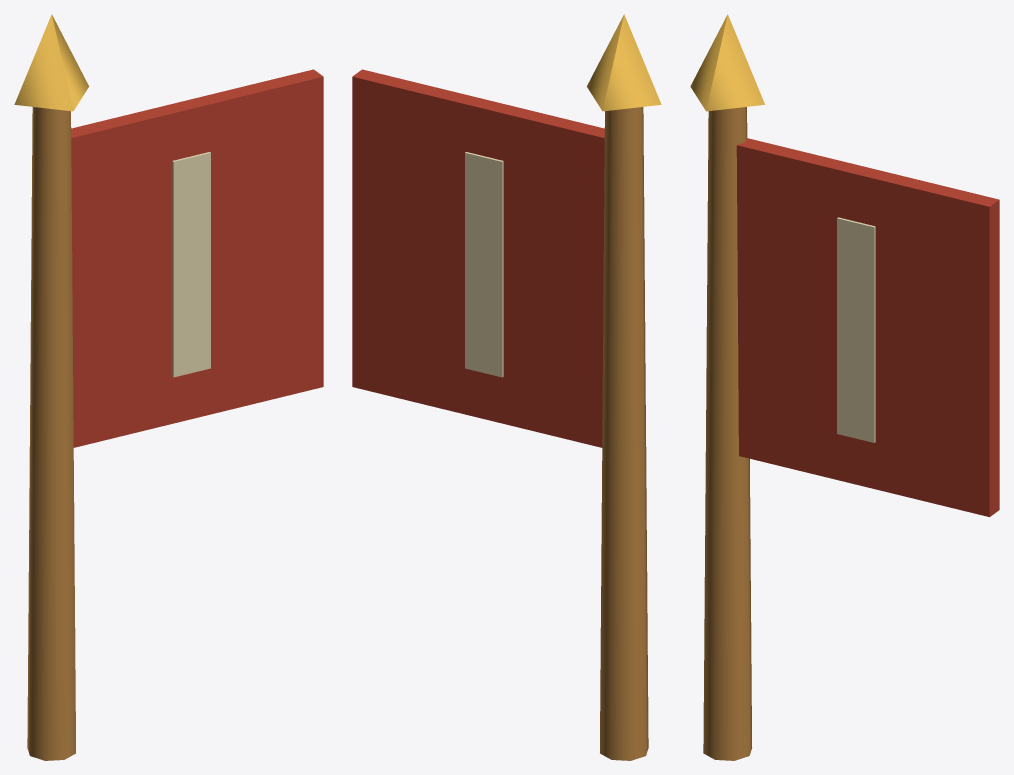
File: banner_red.glb
The picture shows the model from 3 angles, left to right: view 1: azimuth 30°, elevation 25°; view 2: azimuth 150°, elevation 25°; view 3: azimuth 330°, elevation 25°; orthographic projection.
Visible parts, largest first — view 1: banner_red; view 2: banner_red; view 3: banner_red.
Part boxes in pixels (box(x1,y1,x2,y2)): banner_red: box(14, 14, 323, 760); banner_red: box(352, 14, 661, 760); banner_red: box(690, 14, 999, 760).
Size of the model in its own units: 0.975 by 2.26 by 0.24.
